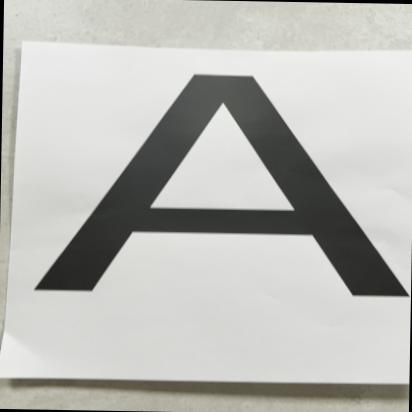seat: (83, 72, 412, 321)
